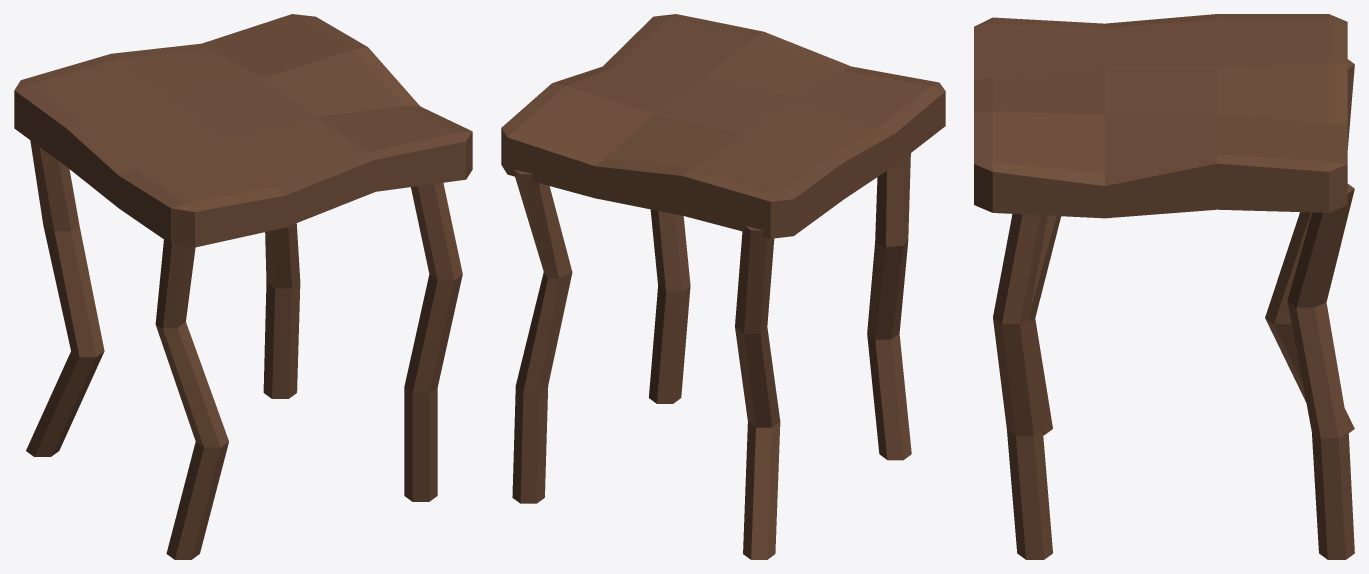
File: table_small_2.fbx
3 views of the same model, side by side, from view 1: azimuth 30°, elevation 25°; view 2: azimuth 150°, elevation 25°; view 3: azimuth 270°, elevation 25° (orthographic). The views are drawn at different scales.
Parts seen in each view (by area): view 1: Small_Table; view 2: Small_Table; view 3: Small_Table.
Part boxes in pixels (x1,y1,x2,y2): Small_Table: (14,14,472,559); Small_Table: (501,14,945,559); Small_Table: (974,14,1354,559).
Size of the model in its own units: 104 by 125 by 106.
